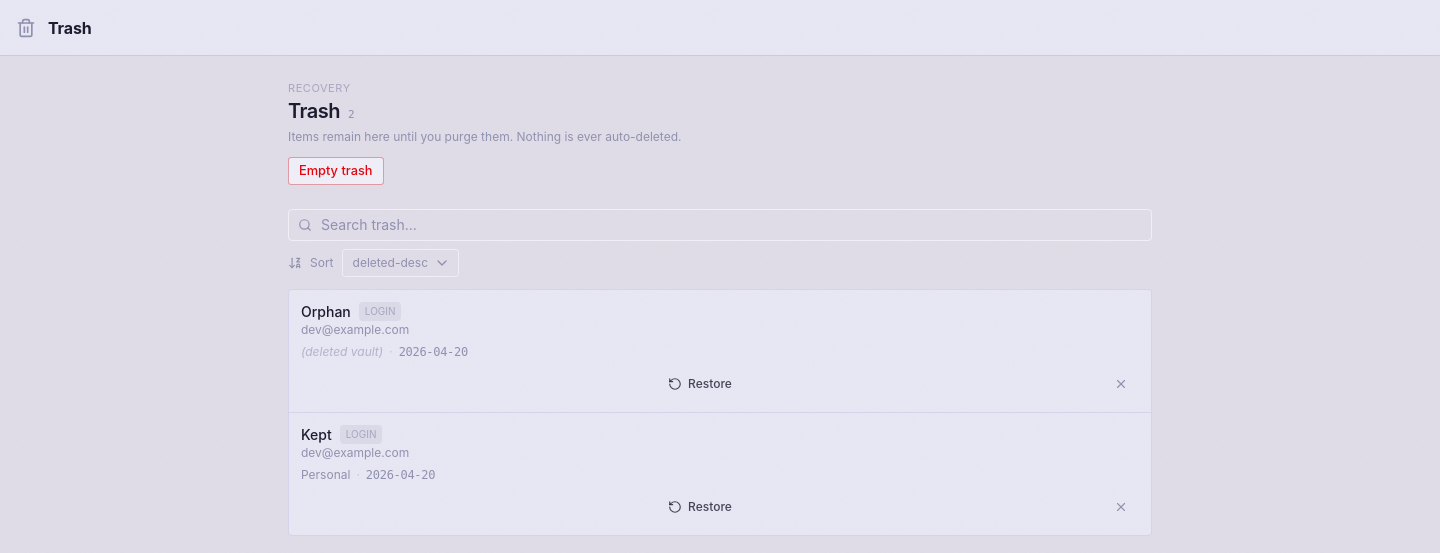
Test: TrashPage › search matches items whose source vault has been deleted
The image size is (1440, 553).
Type "orph" into the field labelled "Search trash". click: (720, 224)
box: [288,208,1152,240]
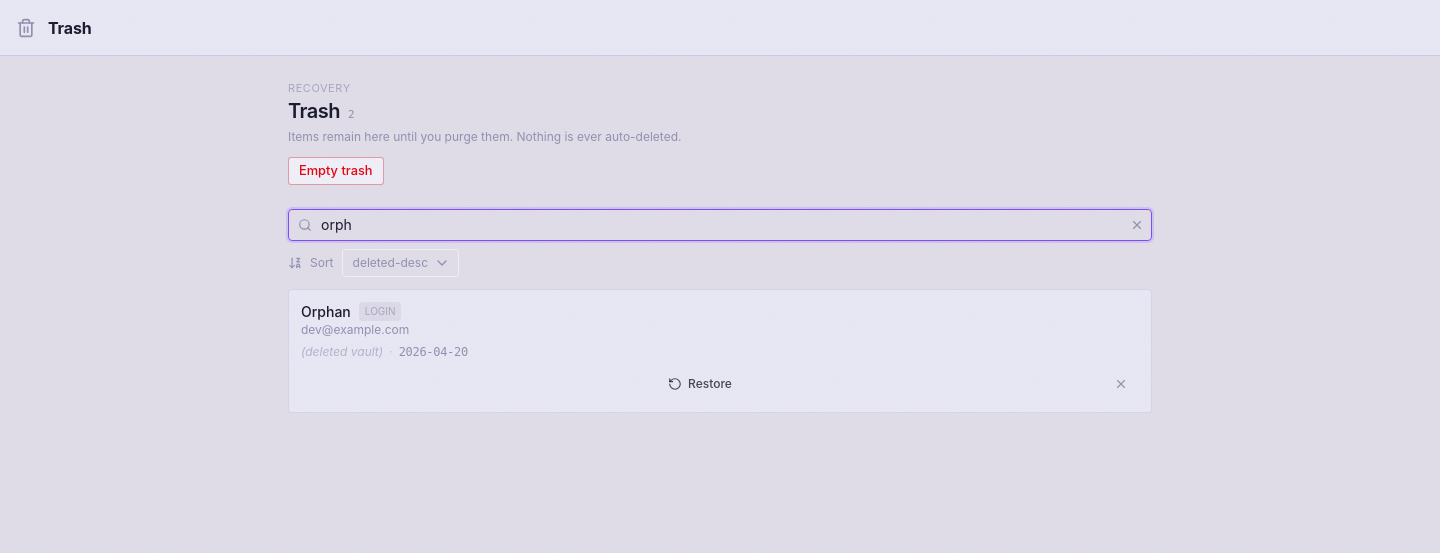
Expected: the text "Orphan" is shown, [301,302,351,322]
Now the text "Kept" is gone
